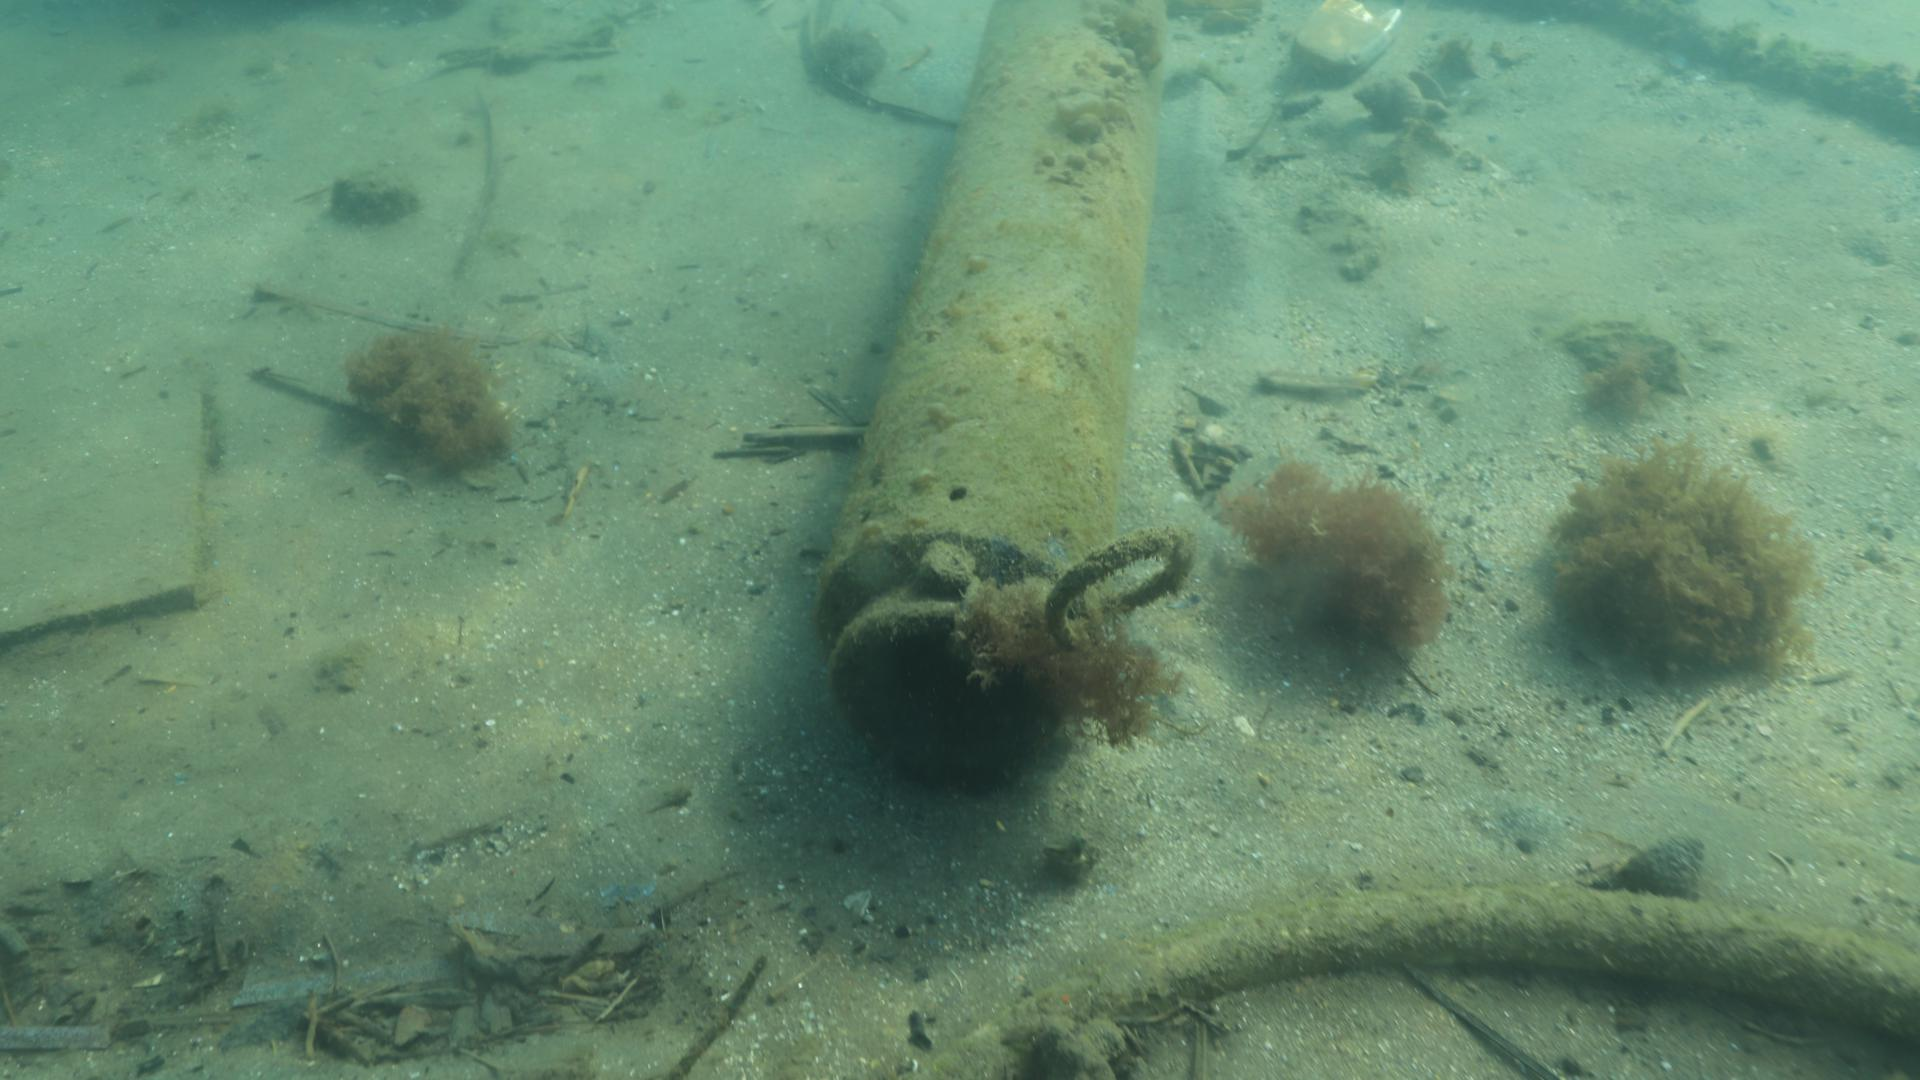eel fish trap: (808, 0, 1170, 793)
rope: (1039, 527, 1195, 659)
